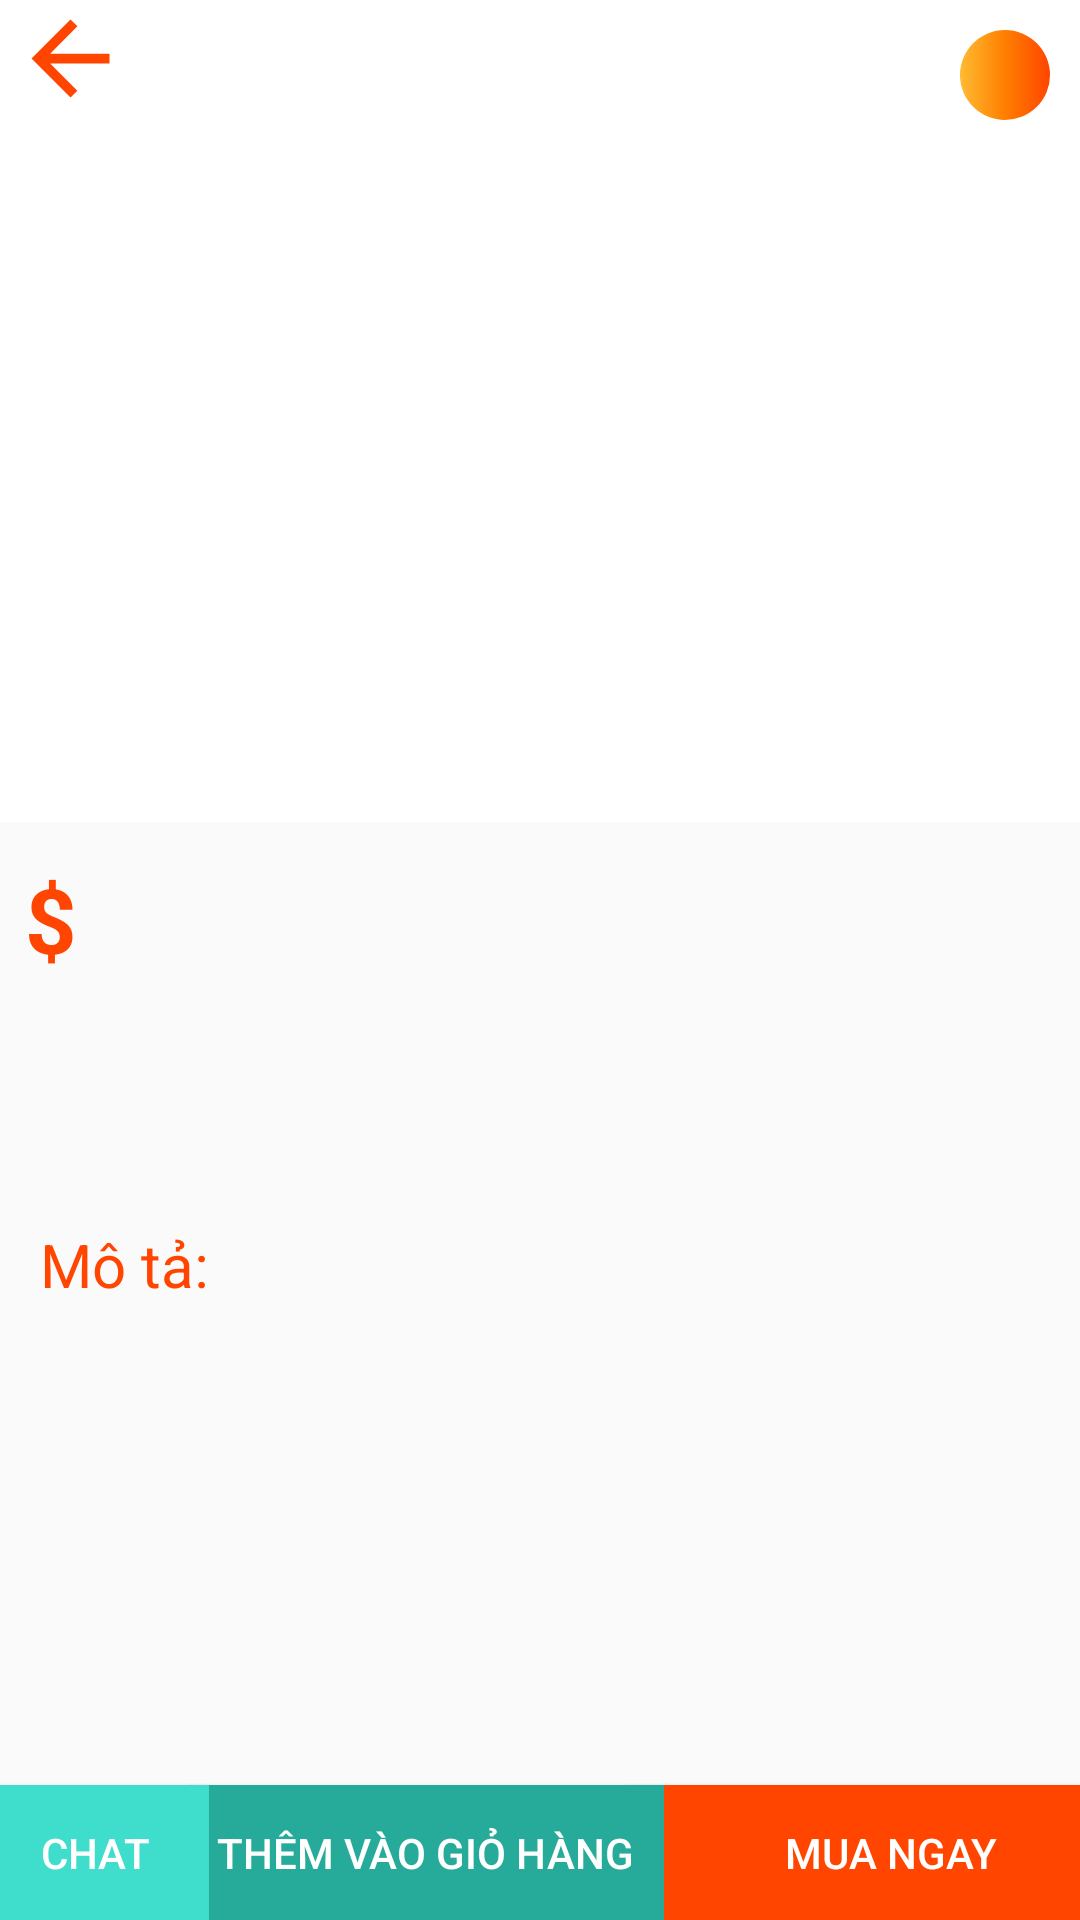

Where to tap for icons on this 1080 x 1920 app screen, as (x=x, y=y):
arrow back: (x=70, y=58)
